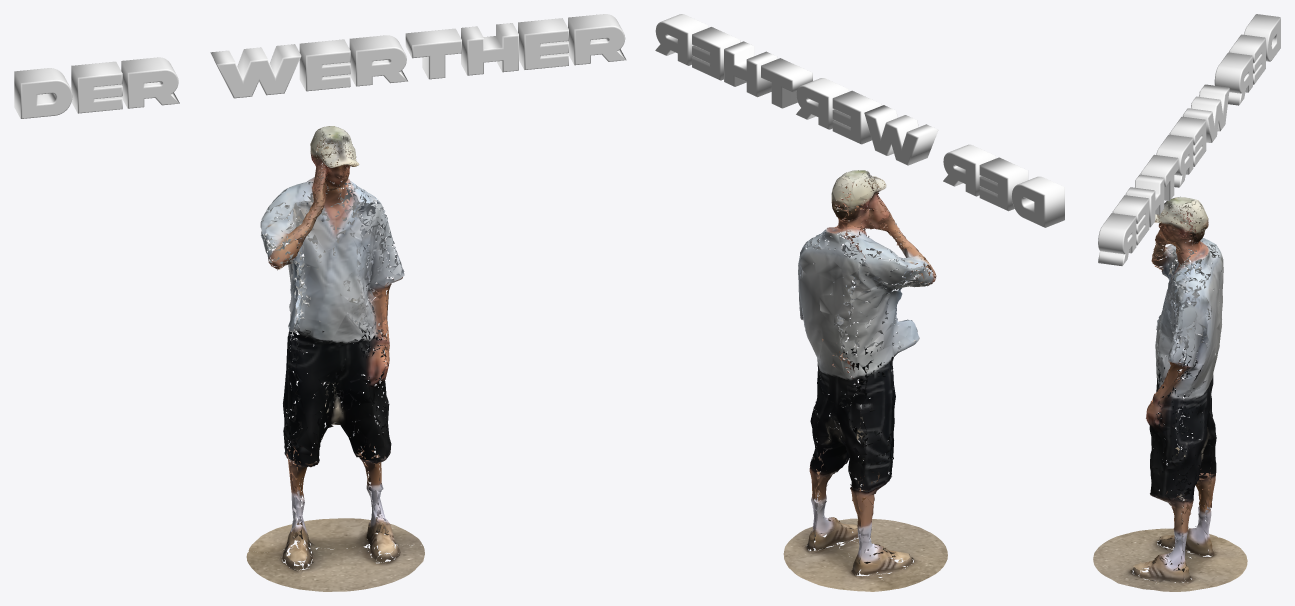
File: werther.glb
3 renders of one model, left to right at view 1: azimuth 30°, elevation 25°; view 2: azimuth 150°, elevation 25°; view 3: azimuth 270°, elevation 25°, orthographic. The views are drawn at different scales.
Parts seen in each view (by area): view 1: der_werther, Text.008; view 2: der_werther, Text.008; view 3: der_werther, Text.008.
Part boxes in pixels (box(x1,y1,x2,y2)): der_werther: box(246, 126, 424, 591); Text.008: box(14, 14, 626, 118); der_werther: box(783, 170, 947, 591); Text.008: box(655, 14, 1064, 227); der_werther: box(1093, 196, 1247, 591); Text.008: box(1098, 14, 1280, 265).
Bounding box in the file's own units: 3.32 × 3.06 × 1.19.
Materials: 2 (1 with a texture image).
